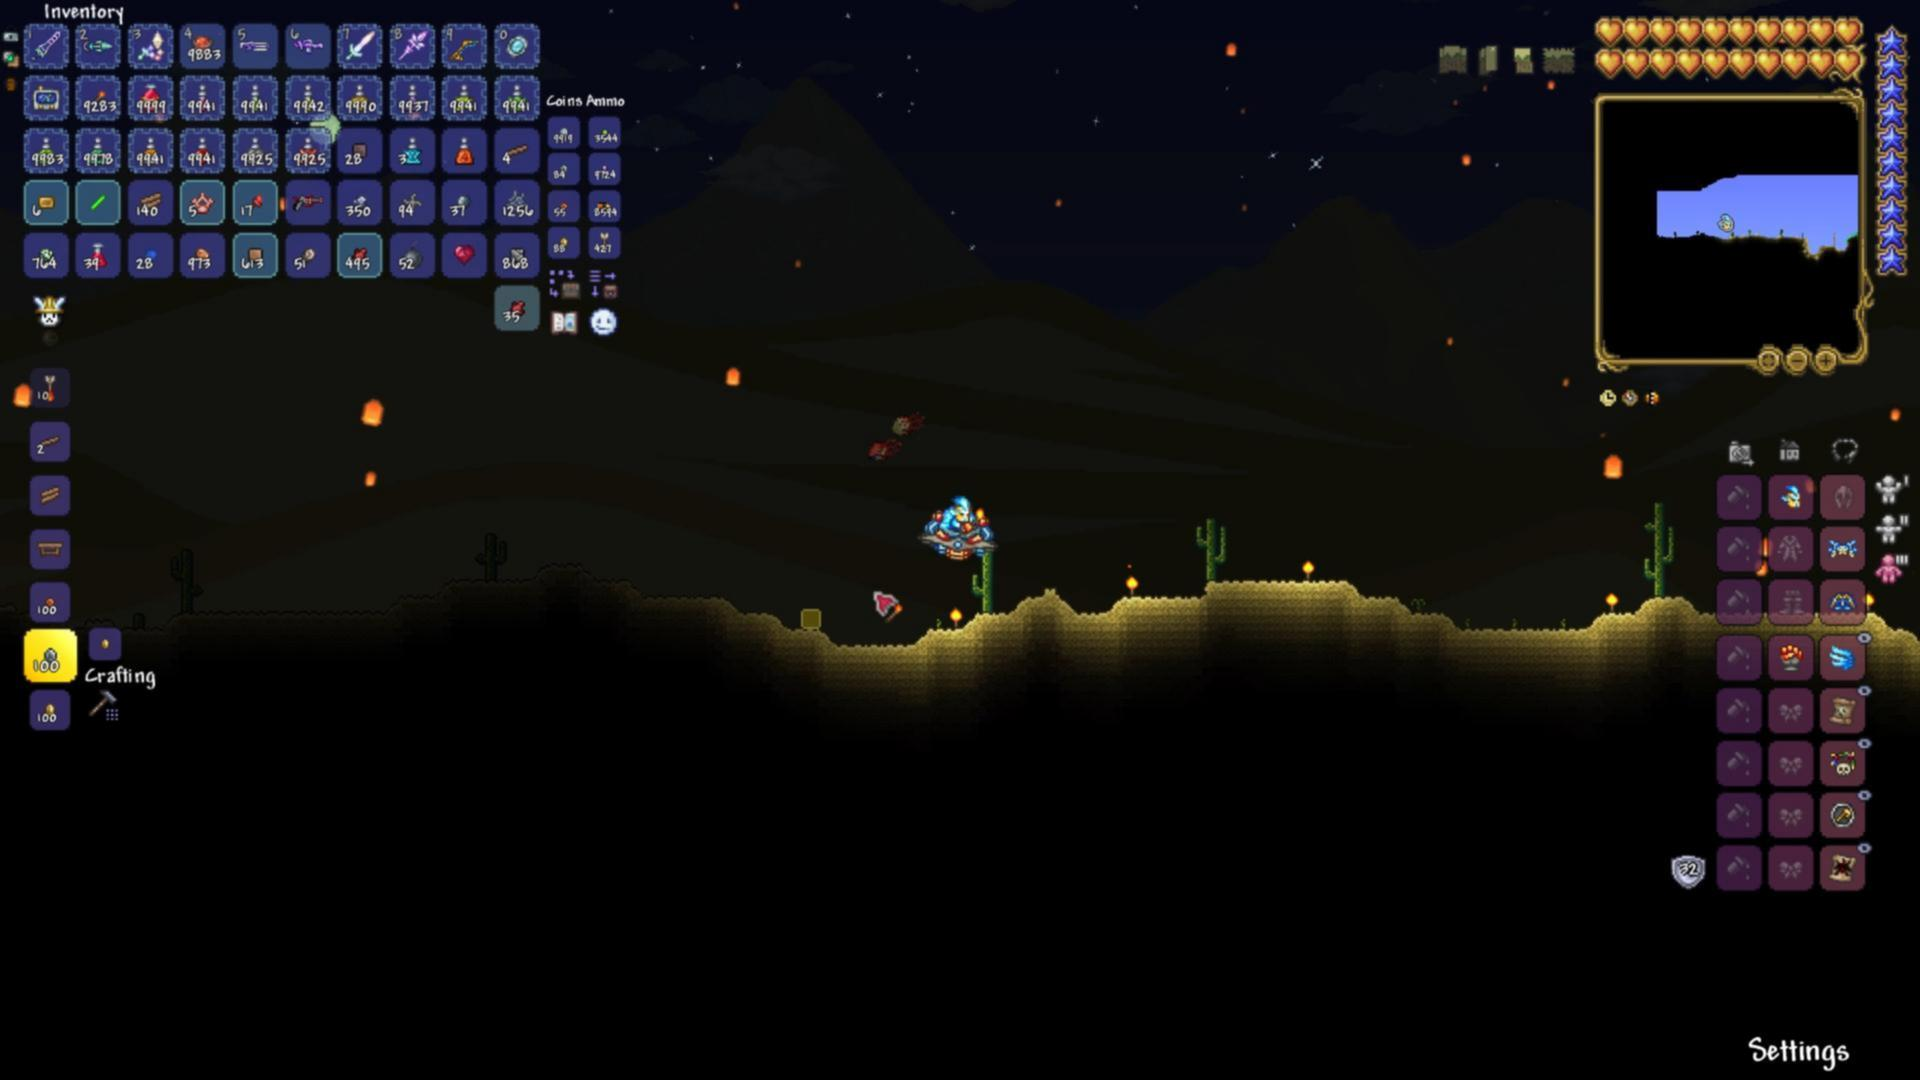eye: (861, 435, 909, 469), (884, 404, 927, 440)
mirror: (502, 33, 529, 62)
